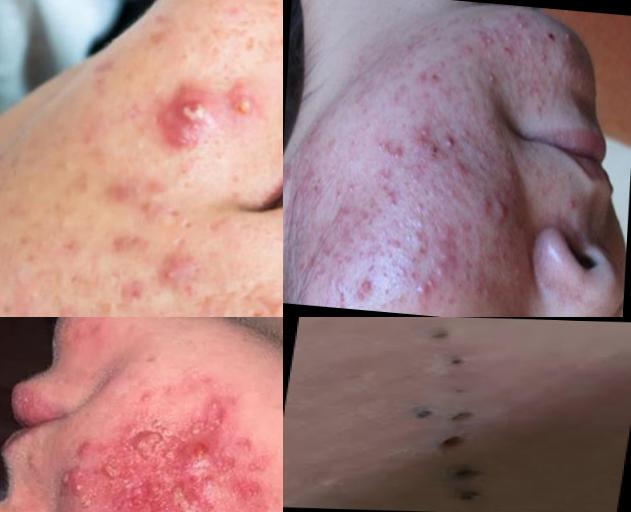blackhead: (431, 463, 498, 508), (393, 403, 484, 427), (422, 432, 483, 455), (419, 326, 457, 345), (436, 356, 473, 370)
cystic: (176, 439, 226, 484), (127, 423, 173, 470), (165, 479, 207, 512), (493, 188, 514, 231)
papular: (150, 258, 209, 288), (431, 223, 459, 277), (352, 268, 384, 307), (65, 432, 100, 465), (336, 207, 359, 245), (377, 175, 401, 210), (440, 128, 463, 159), (415, 68, 443, 90), (412, 230, 430, 261), (528, 82, 551, 106), (498, 33, 519, 59), (417, 273, 436, 301), (458, 122, 478, 145), (412, 203, 429, 228), (473, 144, 491, 167), (409, 169, 425, 189), (388, 236, 402, 256)
purulent: (229, 79, 261, 125), (559, 188, 589, 221), (69, 476, 97, 506), (495, 140, 522, 170), (482, 65, 509, 93), (453, 152, 473, 184), (509, 11, 535, 34), (561, 23, 580, 46), (536, 47, 554, 68)
sebo-crystan-conglo: (152, 75, 234, 158), (182, 388, 234, 439), (416, 118, 444, 164), (471, 19, 503, 52), (380, 137, 406, 169)
